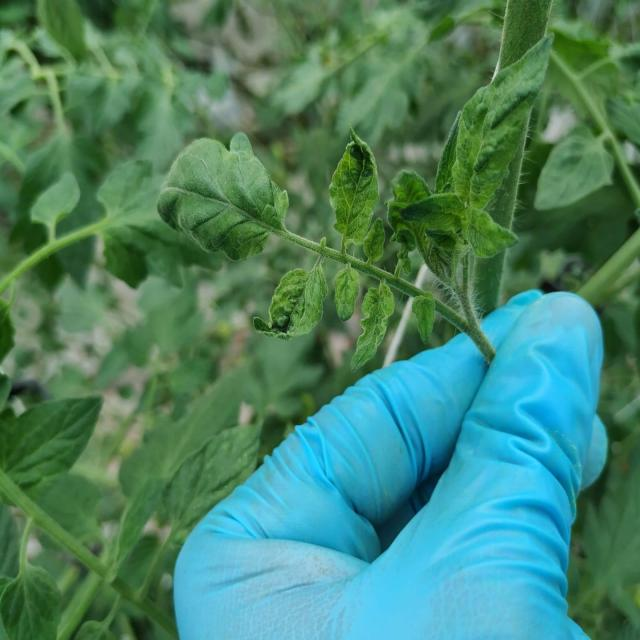T_L_H: (159, 133, 289, 260)
T_L_R: (452, 39, 552, 211), (330, 129, 380, 254), (255, 259, 329, 339), (352, 284, 395, 371), (467, 209, 519, 259), (401, 194, 465, 233), (336, 264, 361, 323), (414, 293, 436, 344), (365, 219, 386, 264)
T_S_R: (279, 231, 419, 296)
